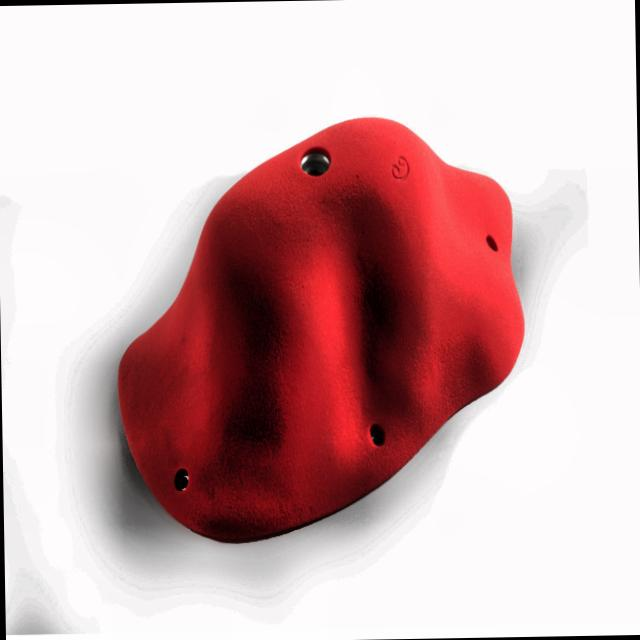Hold: (92, 116, 526, 546)
